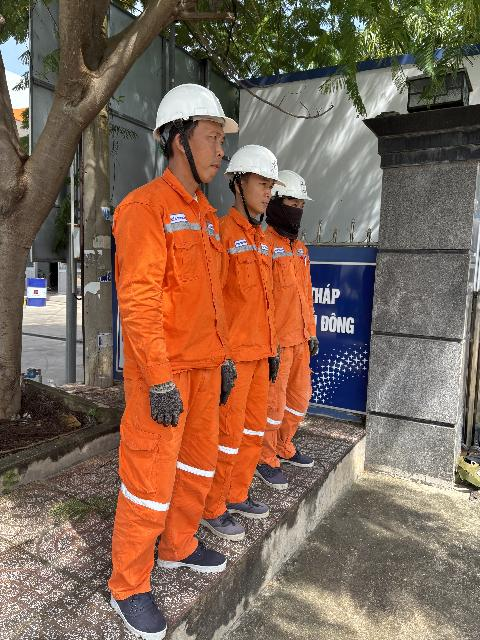gloves: (145, 373, 190, 438), (213, 348, 233, 398), (259, 350, 289, 379), (296, 322, 320, 356), (222, 349, 244, 386)
helmet: (140, 61, 244, 139), (229, 137, 288, 194), (261, 161, 321, 213)
shoes: (112, 566, 165, 640), (162, 543, 232, 580), (191, 507, 249, 546), (246, 452, 291, 493), (220, 492, 274, 520), (278, 444, 314, 477)
